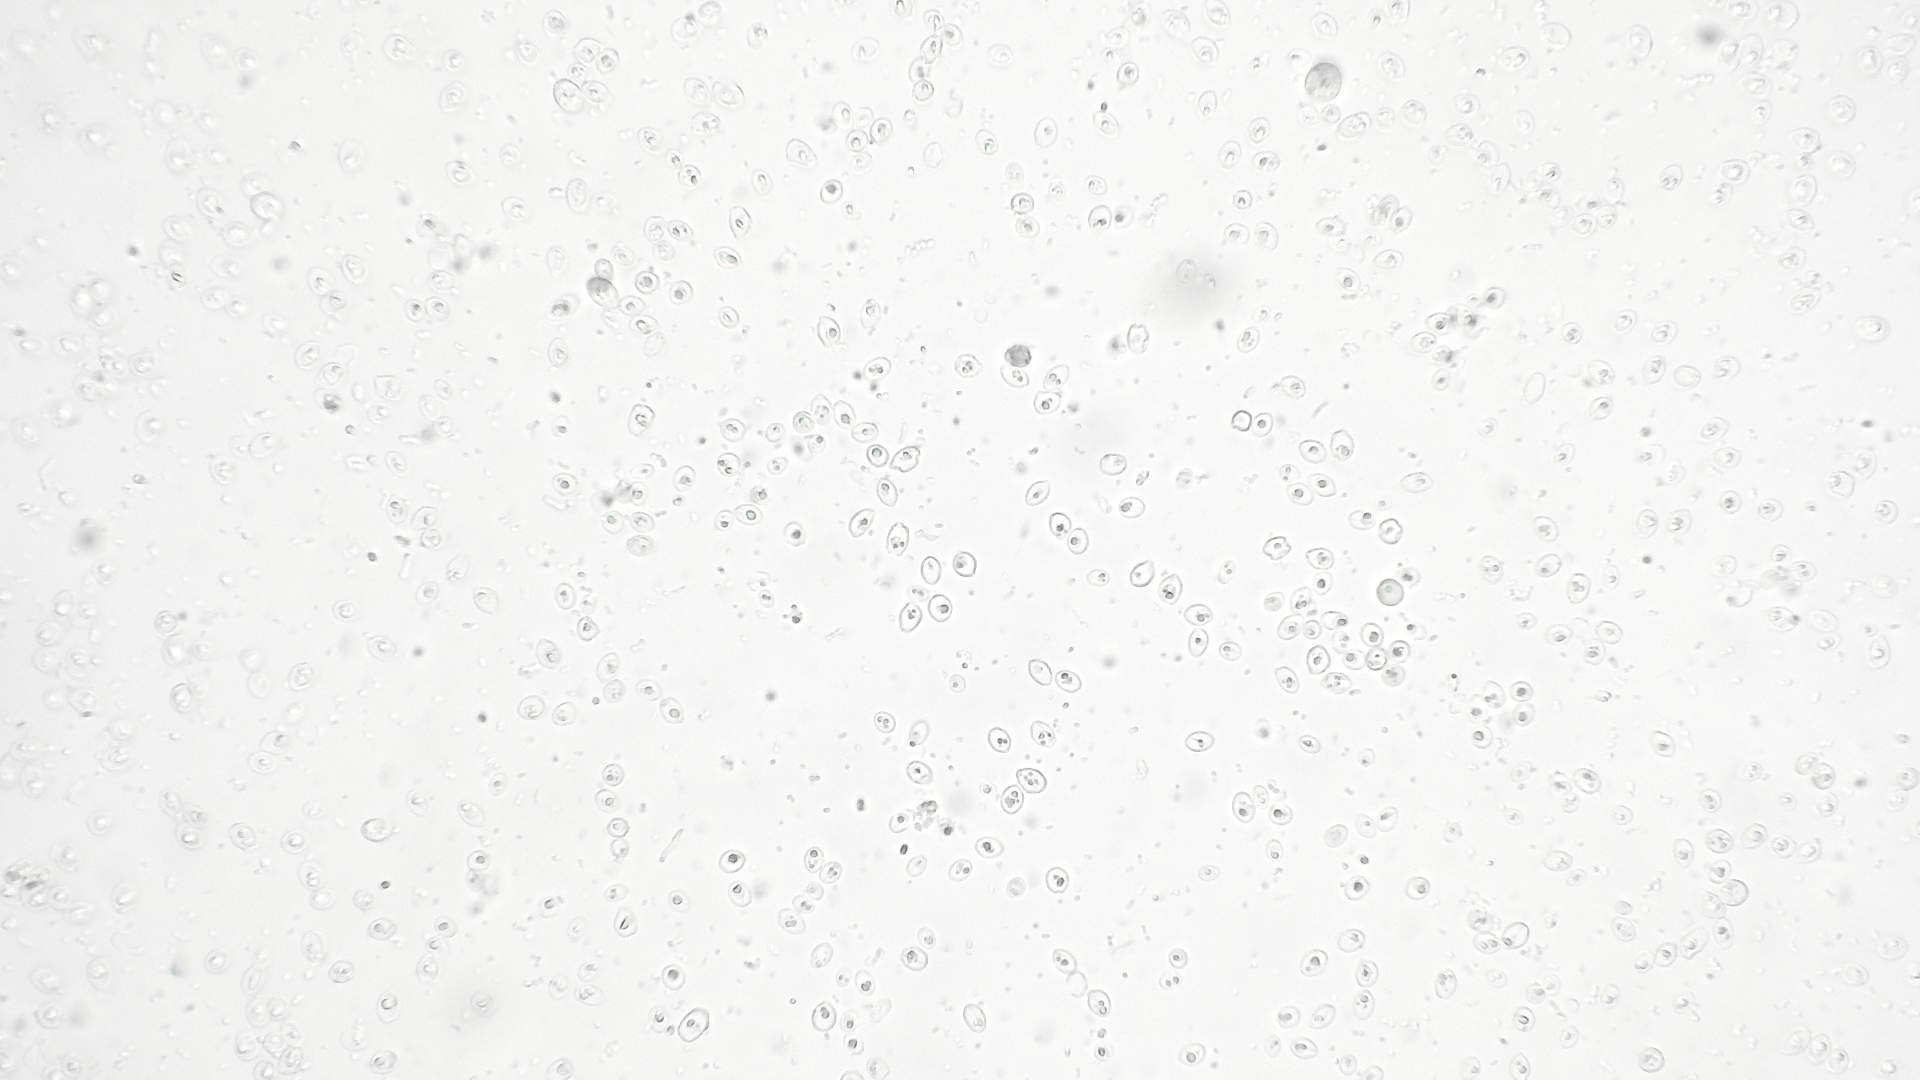yeast: (625, 403, 658, 440), (587, 277, 622, 310), (678, 1008, 711, 1042), (1699, 827, 1741, 853), (1252, 219, 1280, 257), (998, 363, 1032, 394), (814, 314, 843, 351), (727, 204, 754, 243), (545, 293, 577, 324), (787, 140, 819, 173), (1290, 587, 1321, 618), (471, 584, 502, 616), (228, 822, 258, 854), (1313, 213, 1348, 243), (300, 929, 326, 968), (375, 990, 402, 1026), (884, 521, 910, 558), (456, 798, 486, 830), (1647, 729, 1679, 760), (1385, 204, 1416, 235), (1696, 414, 1727, 444), (1718, 880, 1751, 908), (612, 906, 639, 940), (1092, 110, 1122, 140), (416, 393, 445, 424), (293, 339, 322, 370), (574, 38, 605, 67), (1016, 768, 1049, 795), (413, 953, 440, 986), (1585, 359, 1618, 387), (535, 638, 562, 672), (904, 760, 935, 788), (1033, 118, 1062, 148), (890, 446, 922, 473), (287, 662, 315, 693), (366, 636, 398, 663), (1571, 768, 1602, 795), (1329, 429, 1355, 462), (858, 296, 882, 331), (1635, 504, 1659, 540), (1376, 578, 1404, 607), (1029, 721, 1057, 750), (1551, 439, 1578, 469), (1306, 645, 1332, 676), (369, 1049, 401, 1075), (1828, 468, 1854, 500), (810, 392, 832, 429), (1157, 574, 1181, 606), (898, 601, 923, 634), (168, 683, 193, 716), (258, 730, 292, 756), (359, 817, 391, 843), (1640, 354, 1664, 388), (1300, 949, 1328, 978), (1308, 1004, 1336, 1032), (926, 593, 954, 622), (848, 509, 876, 538), (718, 417, 747, 445), (574, 615, 601, 643), (153, 610, 181, 639), (1502, 922, 1531, 950), (1673, 364, 1703, 392), (1298, 439, 1328, 466), (777, 908, 807, 935), (811, 1001, 837, 1031), (410, 505, 440, 531), (1307, 473, 1339, 498), (1232, 792, 1257, 824), (853, 968, 878, 999), (546, 337, 571, 369), (280, 829, 311, 855), (1434, 968, 1458, 1000), (1218, 139, 1243, 170), (833, 400, 857, 433), (734, 503, 767, 526), (248, 751, 281, 776), (1566, 573, 1590, 606), (660, 964, 687, 992), (715, 452, 743, 480), (1472, 929, 1500, 956), (1740, 823, 1767, 850), (1222, 222, 1250, 249), (900, 946, 929, 972), (727, 880, 753, 908), (658, 697, 685, 726), (176, 824, 205, 850), (1087, 205, 1113, 233), (1558, 321, 1586, 347), (1116, 495, 1146, 520), (1262, 537, 1292, 562), (1000, 784, 1025, 815), (954, 353, 984, 378), (595, 651, 620, 682), (515, 695, 546, 720), (366, 916, 397, 942), (1589, 397, 1620, 422), (1320, 672, 1352, 696), (1352, 990, 1375, 1022), (1672, 838, 1696, 869), (1116, 60, 1139, 91), (1044, 365, 1072, 392), (952, 551, 979, 579), (818, 178, 844, 206), (633, 269, 661, 295), (550, 700, 577, 727), (1535, 553, 1562, 579), (911, 78, 938, 106), (1755, 497, 1783, 524), (1034, 390, 1063, 416), (1305, 547, 1335, 572), (1354, 961, 1380, 990), (1177, 1042, 1207, 1067), (648, 1005, 673, 1034), (550, 472, 579, 497), (672, 465, 697, 494), (384, 449, 409, 478), (432, 913, 458, 941), (875, 477, 899, 508), (712, 246, 743, 270), (1544, 850, 1574, 874), (1373, 248, 1403, 272), (1252, 151, 1282, 175), (624, 535, 655, 558), (1127, 324, 1150, 356), (1400, 473, 1434, 495), (678, 165, 704, 191), (790, 410, 816, 436), (328, 959, 355, 985), (1535, 516, 1561, 542), (1511, 1006, 1537, 1033), (1714, 917, 1736, 950), (1796, 838, 1822, 864), (868, 117, 894, 144), (1360, 623, 1387, 647), (1286, 481, 1314, 507), (1344, 874, 1369, 902), (1028, 659, 1053, 687), (1045, 866, 1070, 894), (1051, 949, 1079, 974), (1087, 990, 1112, 1018), (595, 789, 623, 814), (809, 942, 834, 969), (865, 357, 893, 382), (628, 510, 656, 535), (469, 990, 494, 1018), (1410, 331, 1438, 356), (1236, 327, 1261, 355), (1509, 1052, 1533, 1080), (1275, 666, 1299, 695), (1347, 508, 1376, 532), (962, 1004, 986, 1033), (554, 581, 578, 610), (975, 836, 1005, 859), (752, 167, 774, 198), (1249, 412, 1274, 438), (1025, 480, 1050, 507), (1276, 615, 1301, 641), (1330, 629, 1357, 654), (599, 510, 625, 536), (669, 280, 694, 306), (634, 678, 661, 703), (414, 581, 440, 606), (1611, 917, 1637, 943), (1666, 508, 1691, 534), (1100, 454, 1127, 477), (1049, 513, 1072, 540), (1187, 628, 1210, 656), (1376, 806, 1399, 833), (1276, 1005, 1300, 1033), (1290, 1036, 1318, 1060), (1065, 972, 1089, 999), (719, 849, 746, 873), (667, 219, 695, 243), (1654, 942, 1678, 969), (1003, 345, 1032, 368), (920, 556, 943, 586), (851, 421, 880, 443), (618, 295, 648, 318), (1184, 605, 1214, 627), (1378, 519, 1403, 544), (536, 894, 560, 919), (872, 710, 897, 734), (1130, 560, 1154, 587), (1339, 930, 1365, 953), (1056, 670, 1082, 694), (988, 727, 1011, 753), (865, 1056, 891, 1080), (603, 678, 626, 704), (1484, 285, 1507, 311), (1336, 268, 1362, 292), (1708, 858, 1732, 885), (1720, 490, 1743, 517), (631, 314, 660, 336), (1425, 311, 1453, 334), (1015, 217, 1043, 240), (843, 129, 870, 152), (1642, 445, 1669, 467), (1321, 611, 1350, 632), (804, 846, 826, 875), (1015, 194, 1044, 215), (1387, 640, 1411, 664), (888, 811, 912, 835), (819, 861, 843, 886), (716, 305, 740, 330), (1280, 376, 1306, 400), (1405, 877, 1430, 901), (1772, 835, 1797, 858), (1067, 529, 1089, 555), (1267, 804, 1293, 827), (1355, 813, 1378, 840), (765, 456, 792, 477), (1185, 732, 1215, 752), (433, 378, 456, 402), (1215, 560, 1237, 585), (949, 859, 972, 883), (602, 763, 625, 788), (840, 1032, 865, 1055), (784, 522, 807, 547), (712, 508, 734, 533), (749, 483, 774, 505), (1699, 789, 1721, 813), (1545, 624, 1572, 645), (1584, 638, 1605, 665), (550, 413, 570, 441), (1311, 572, 1333, 596), (1381, 665, 1405, 687), (1262, 591, 1286, 613), (465, 849, 489, 872), (1219, 641, 1243, 662), (909, 721, 930, 747), (866, 443, 888, 468), (1298, 734, 1322, 756), (1085, 567, 1112, 587), (486, 772, 507, 798), (603, 883, 629, 903), (1512, 703, 1534, 727), (1263, 840, 1284, 864), (1342, 649, 1366, 670), (1168, 947, 1189, 970), (606, 817, 630, 839), (667, 890, 689, 914), (764, 420, 785, 445), (1233, 189, 1254, 212), (1715, 447, 1739, 468), (1159, 971, 1182, 992), (906, 856, 929, 877), (792, 894, 815, 915), (1111, 205, 1134, 226), (1198, 864, 1221, 884), (631, 462, 656, 481), (1280, 464, 1302, 485), (1470, 726, 1491, 748), (805, 881, 826, 902), (1512, 682, 1533, 702), (807, 434, 826, 455), (631, 483, 648, 506), (1304, 620, 1322, 640), (610, 839, 629, 859), (650, 451, 668, 470), (949, 675, 967, 694), (759, 590, 776, 609)
